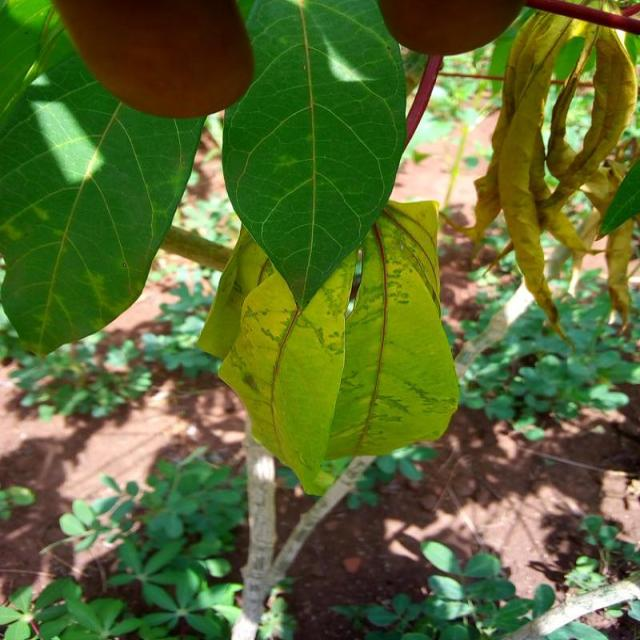cassava leaf: (201, 196, 460, 495), (0, 0, 207, 357), (220, 0, 408, 313), (469, 0, 637, 342)
